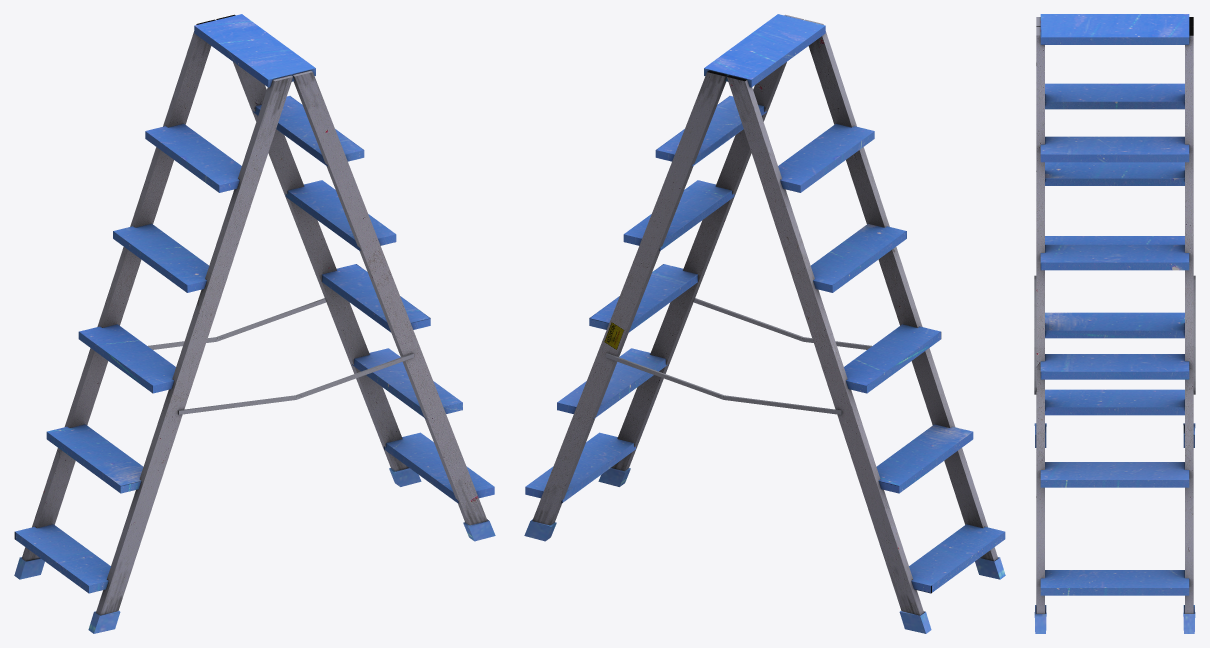
Rendered from ladder.fbx.
3 views of the same model, side by side, from view 1: azimuth 30°, elevation 25°; view 2: azimuth 150°, elevation 25°; view 3: azimuth 270°, elevation 25° (orthographic).
Parts seen in each view (by area): view 1: ladder_Layer1; view 2: ladder_Layer1; view 3: ladder_Layer1.
Boxes of the visible parts, bbox=[...] form: ladder_Layer1: bbox=[14, 14, 495, 633]; ladder_Layer1: bbox=[524, 14, 1005, 633]; ladder_Layer1: bbox=[1034, 14, 1195, 633].
Bounding box in the file's own units: 209 × 250 × 71.67.
Materials: 1 (1 with a texture image).
